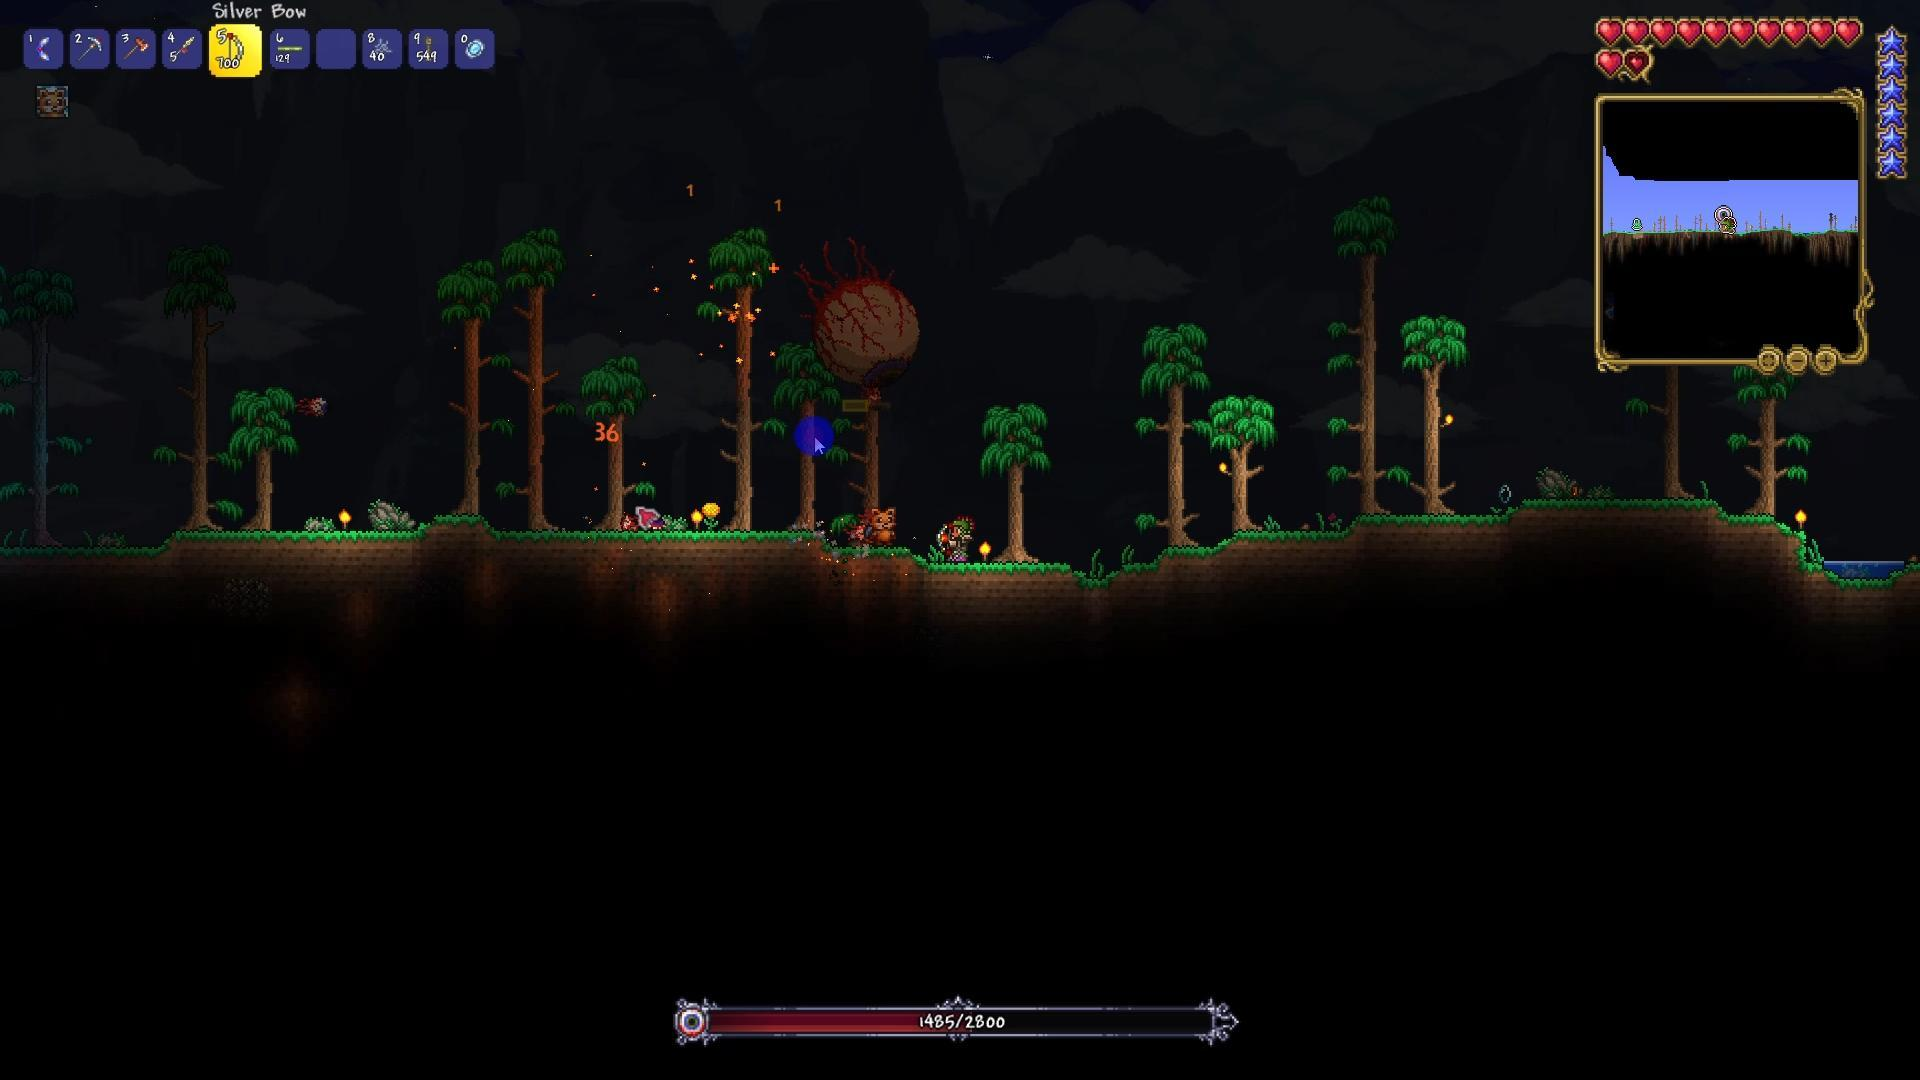dirt: (510, 524, 828, 575), (162, 525, 429, 575), (1162, 526, 1337, 579), (1328, 506, 1509, 554), (1507, 493, 1727, 529), (1055, 541, 1170, 593), (0, 538, 156, 568), (425, 510, 513, 562), (827, 537, 928, 578), (924, 556, 1065, 585)
